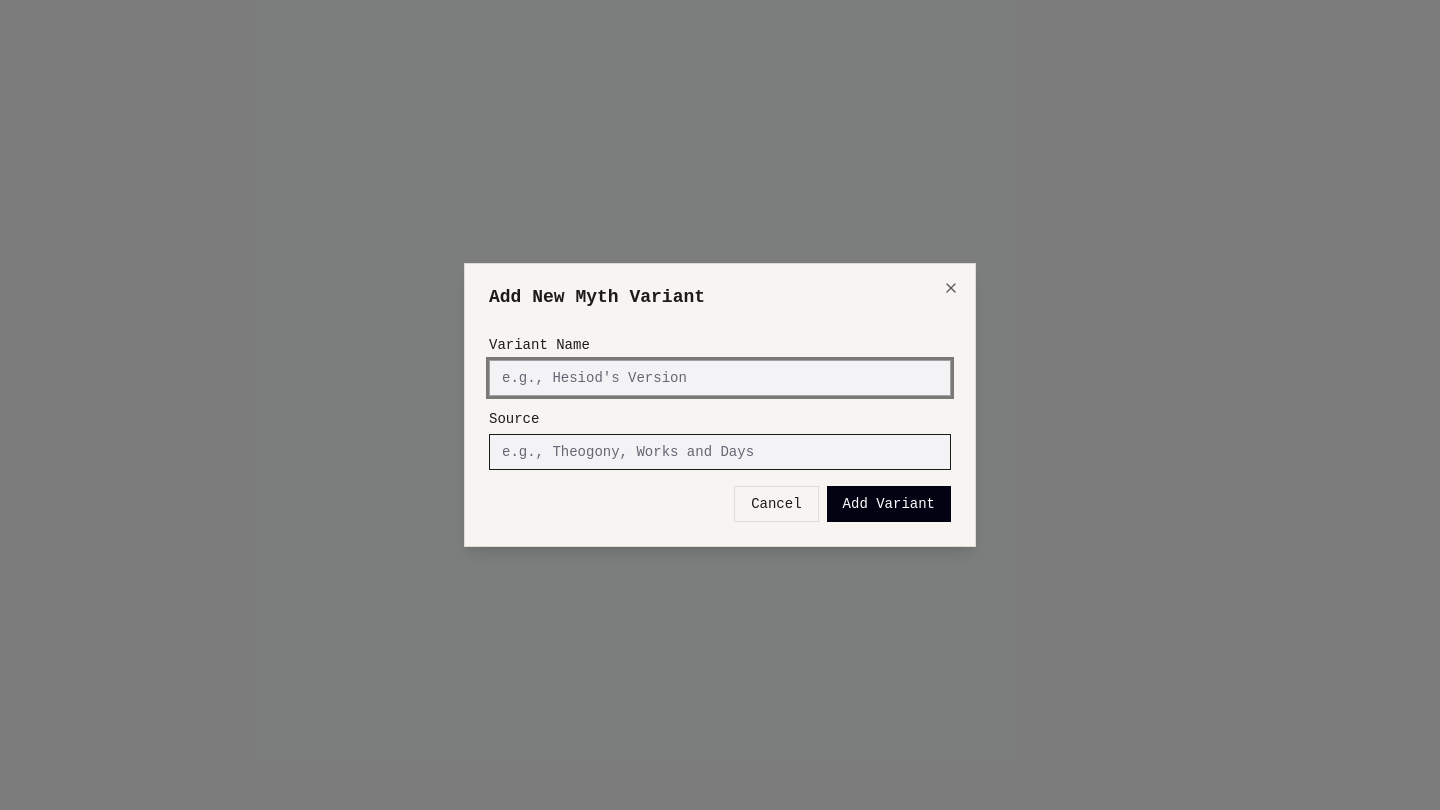
Test: AddVariantDialog › shows error message when submission fails
Type "Invalid Variant" into the field labelled "Variant Name" at (720, 378), box x1=489 y1=360 x2=951 y2=396
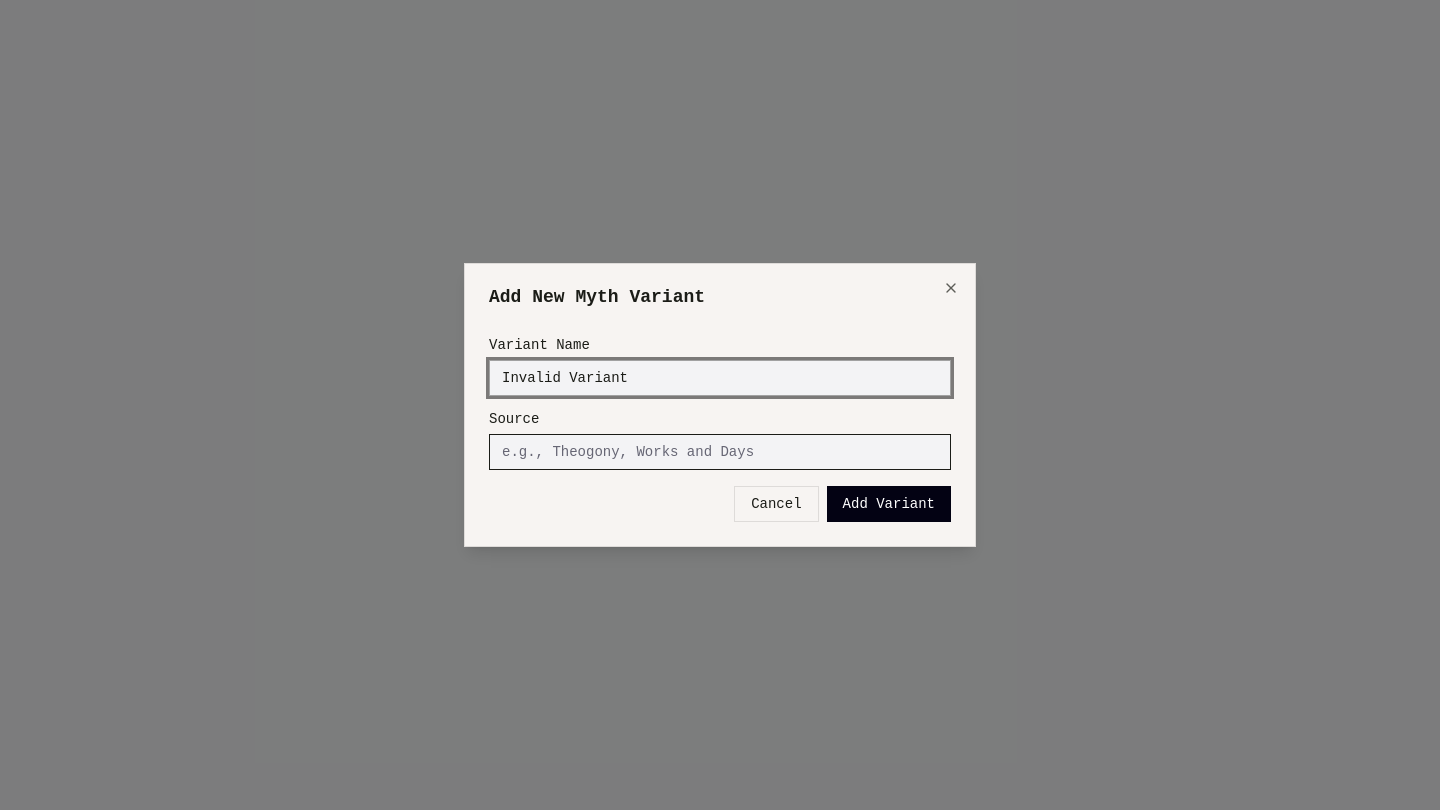
Type "Unknown Source" into the field labelled "Source" at (720, 452), box x1=489 y1=434 x2=951 y2=470
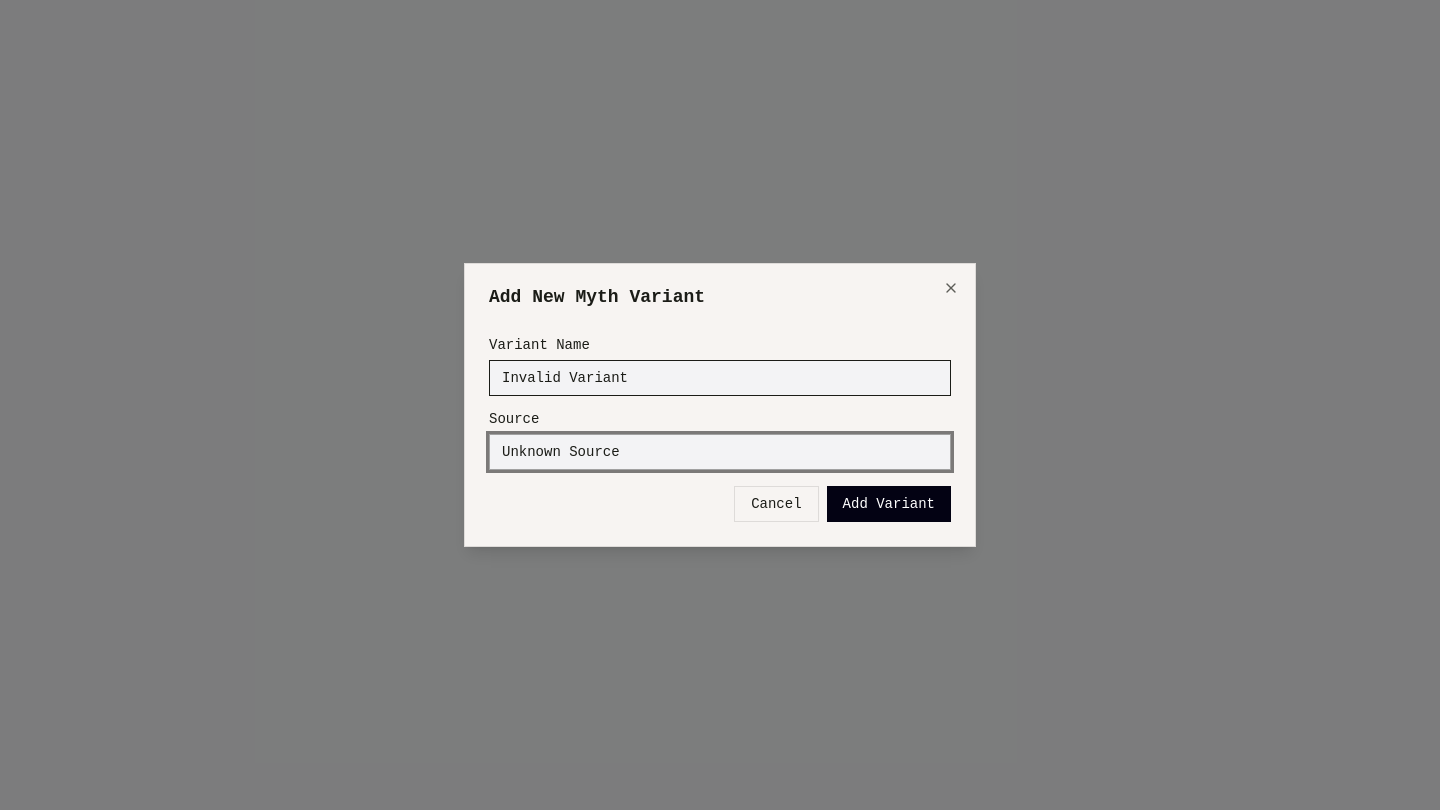
Click the button "Add Variant" at (889, 504), box x1=827 y1=486 x2=951 y2=522
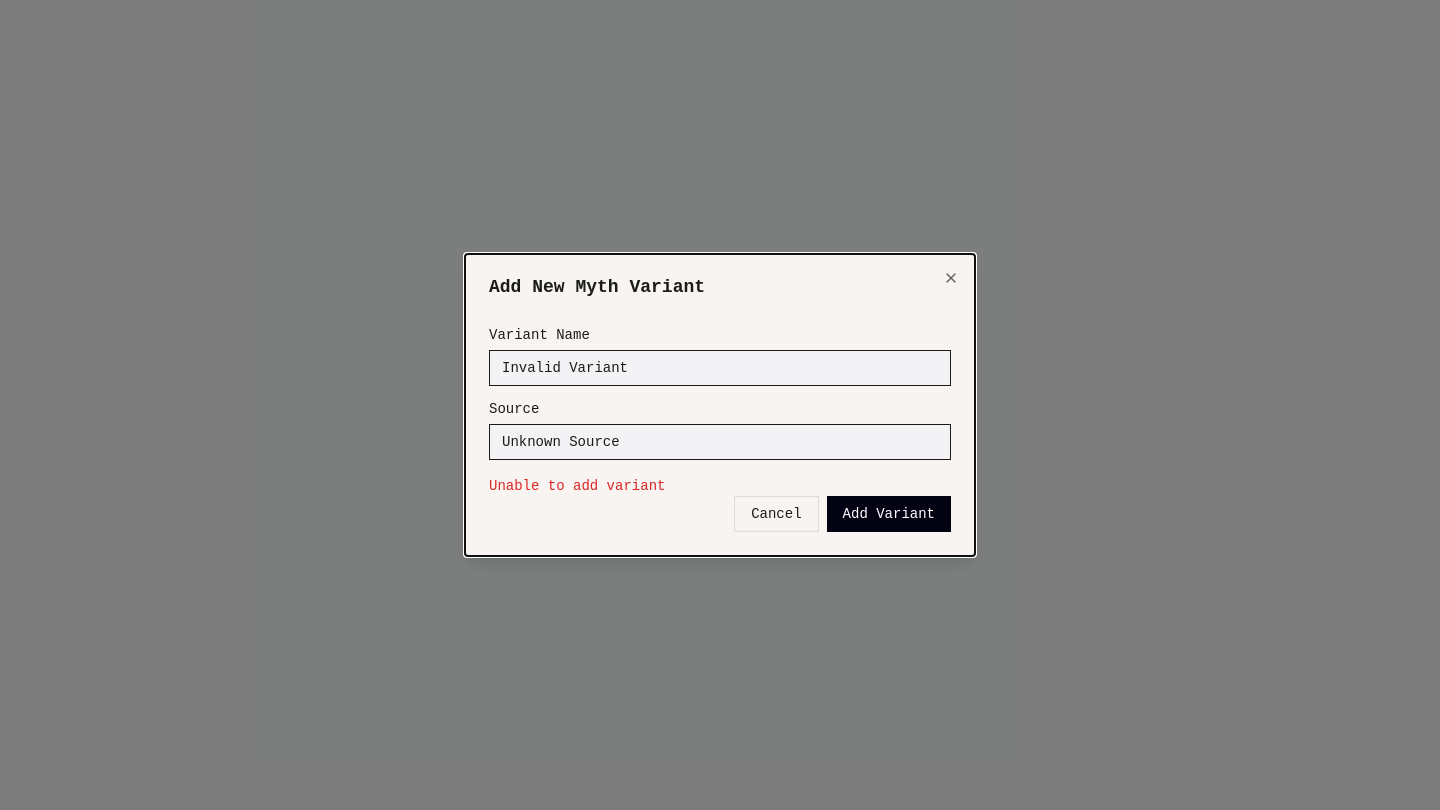
Check: the text "Unable to add variant" is shown, box x1=489 y1=478 x2=665 y2=494
